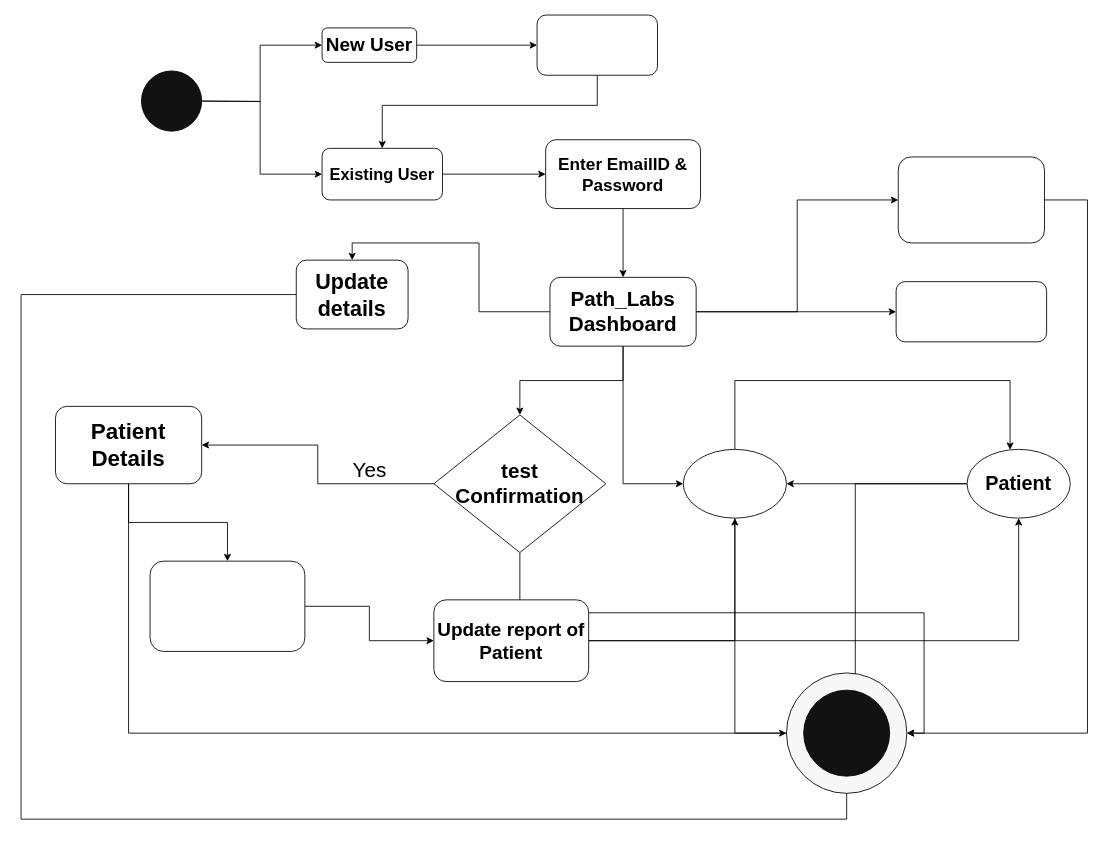
Some shapes in this 1109 by 841 pixel diagram are drawn without their labels. The centre of each missing label's shape, as x and y in pixels:
All Diseases Test: pixel 971 311
Doctors: pixel 734 483
Fees Management: pixel 970 199
Register: pixel 596 44
Test according to Prescription: pixel 227 605
